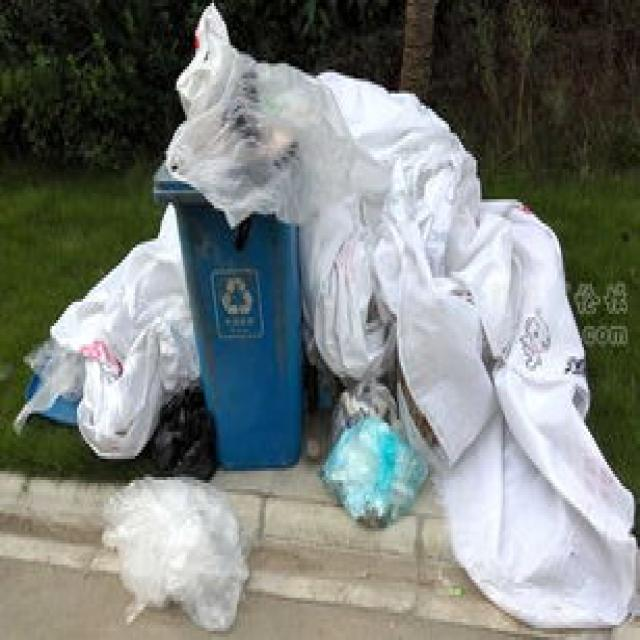garbage: (297, 69, 638, 628), (11, 199, 248, 631)
overflow: (150, 0, 301, 465)
